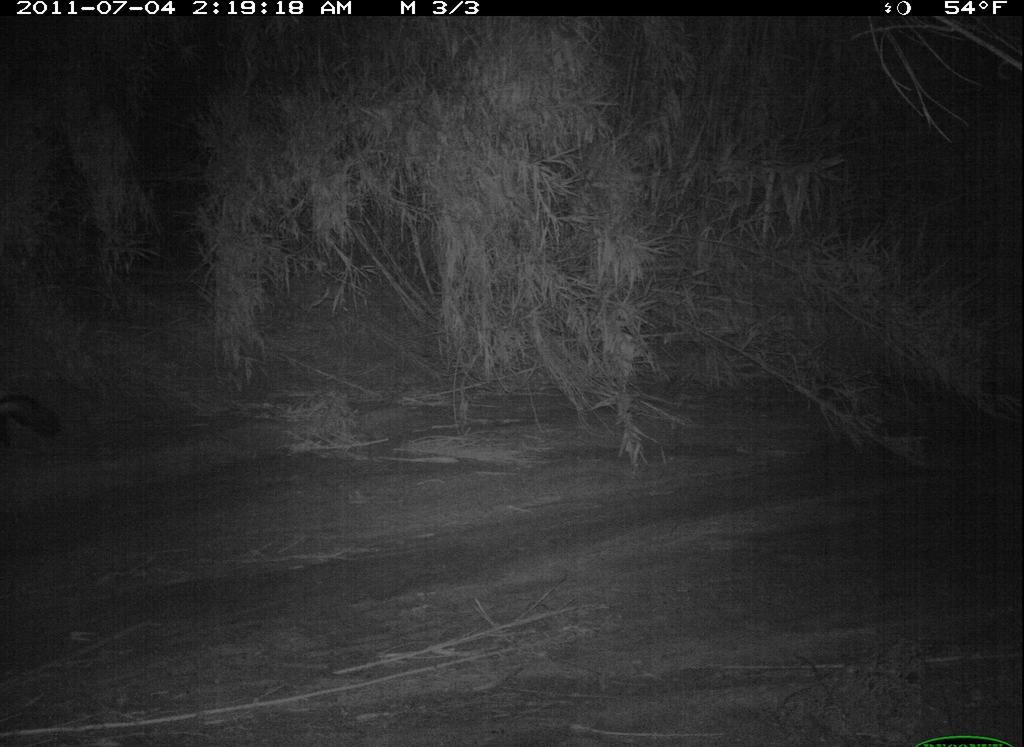skunk: (3, 379, 70, 451)
